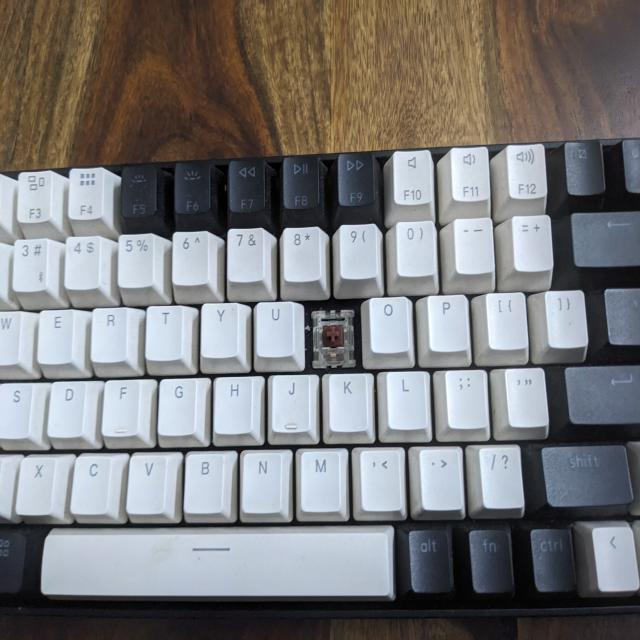C: (313, 308, 354, 363)
